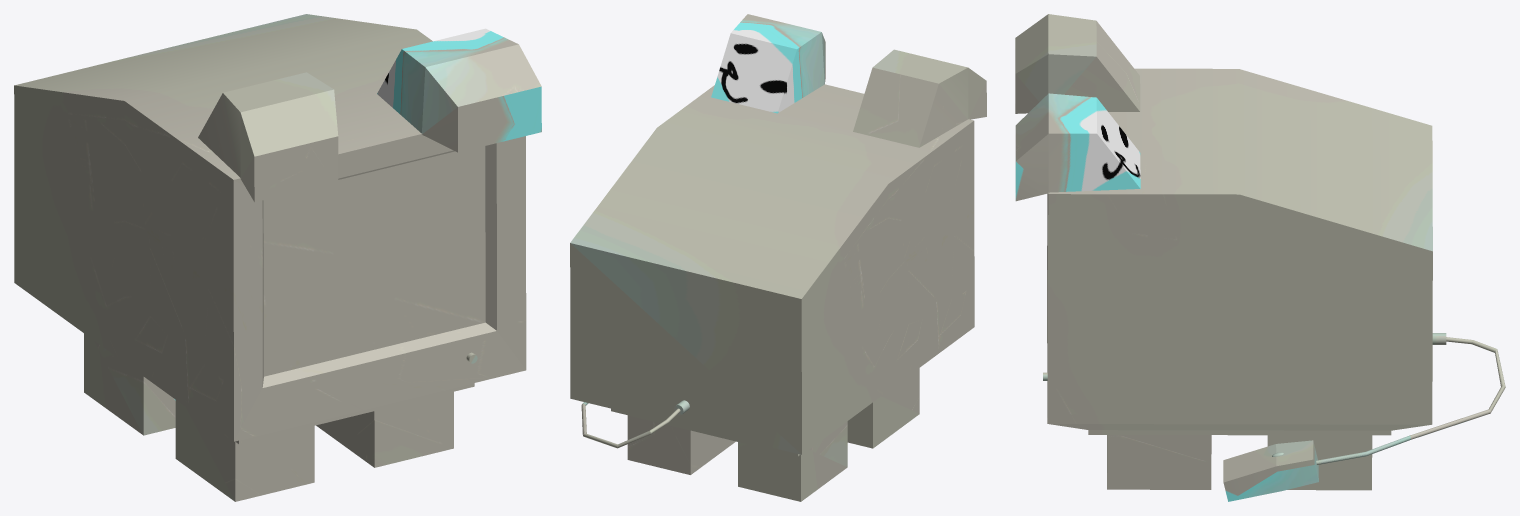
File: wanpaso_color.fbx
3 renders of one model, left to right at view 1: azimuth 30°, elevation 25°; view 2: azimuth 150°, elevation 25°; view 3: azimuth 270°, elevation 25°, orthographic. The views are drawn at different scales.
Visible parts, largest first — view 1: node_id4; view 2: node_id4; view 3: node_id4.
Part boxes in pixels (x1,y1,x2,y2): node_id4: (14,14,541,501); node_id4: (570,14,986,501); node_id4: (1015,14,1505,501).
Bounding box in the file's own units: 27.41 × 32.71 × 39.23.
Materials: 1 (1 with a texture image).
